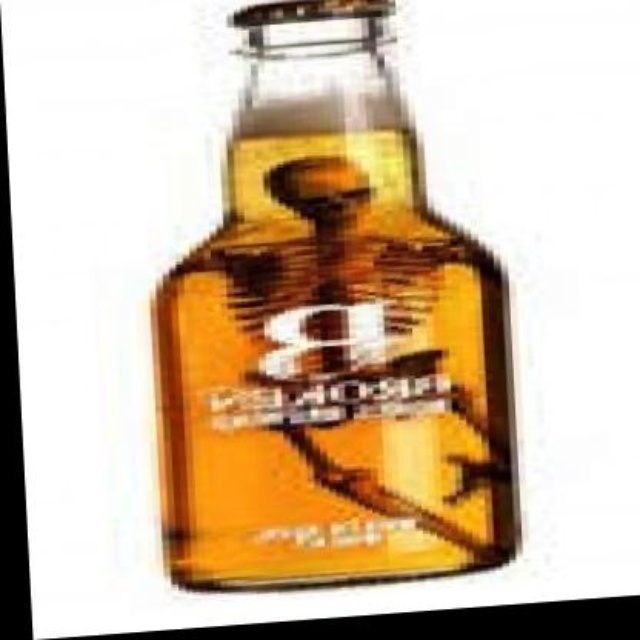trash: (155, 0, 517, 588)
